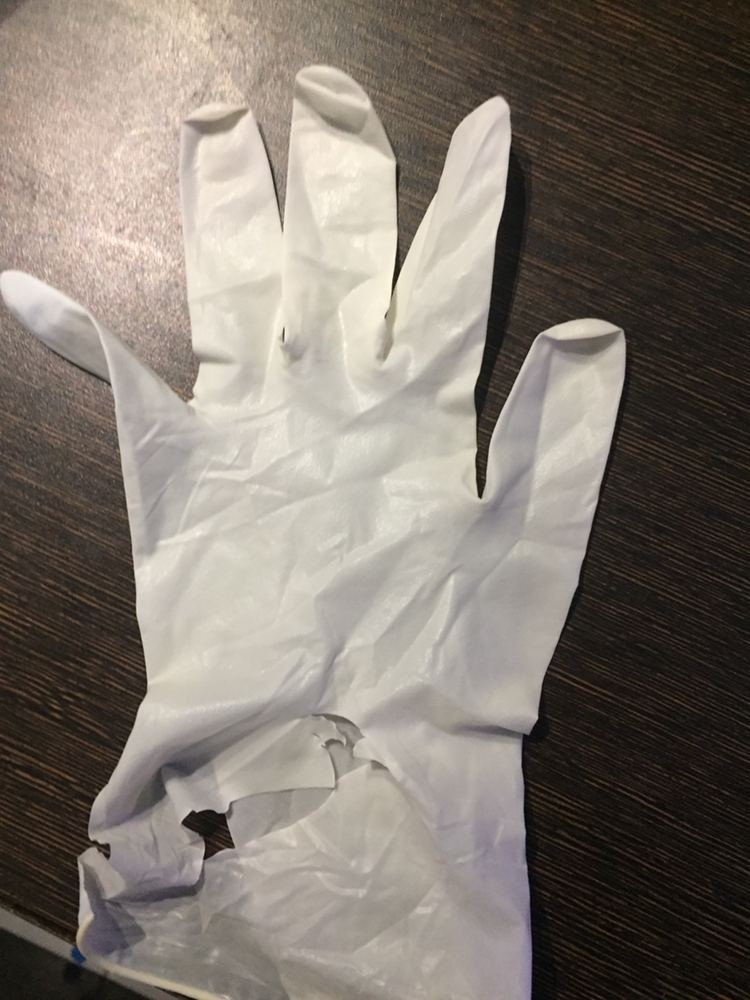defected: (1, 12, 662, 972)
